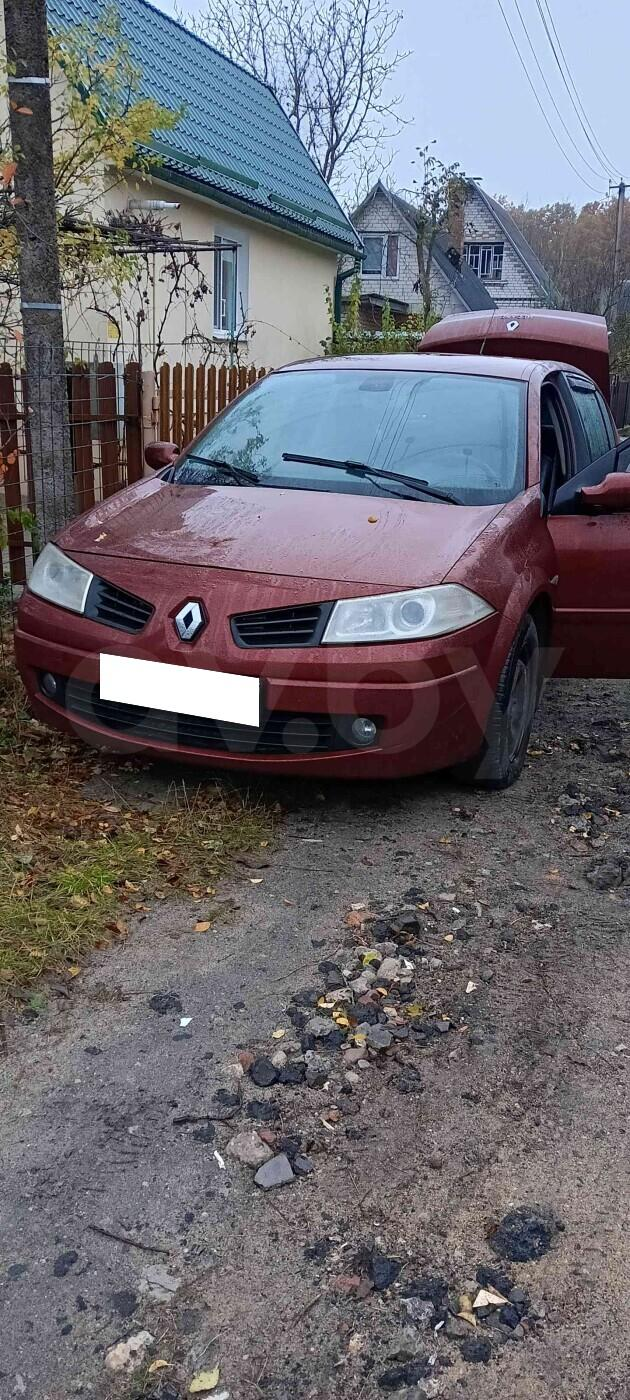Megane_2005-2009: (10, 344, 630, 834)
